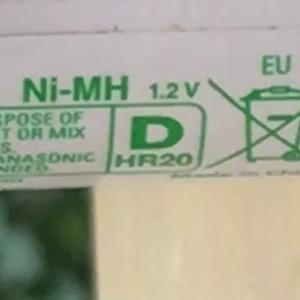NI-MH: (18, 67, 130, 118)
